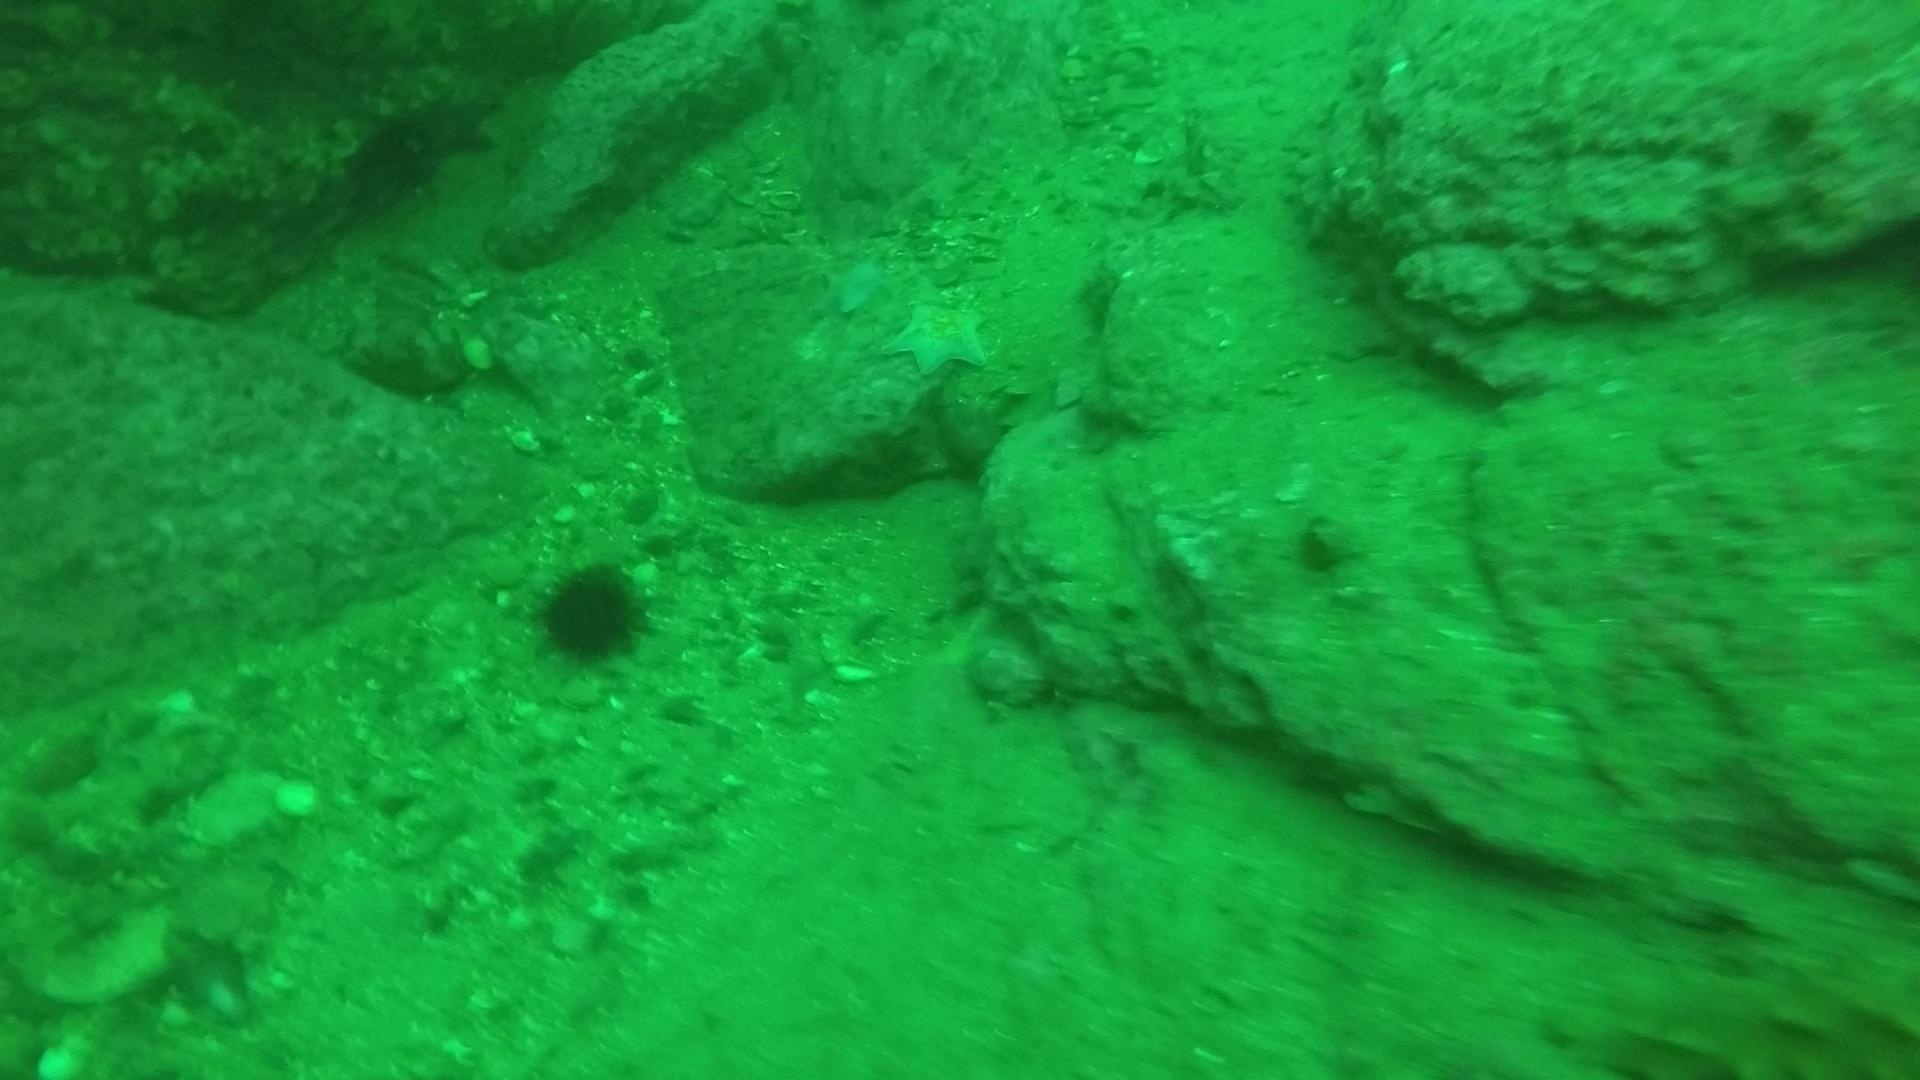echinus: (527, 554, 655, 673)
starfish: (877, 287, 998, 382), (804, 247, 898, 327)
